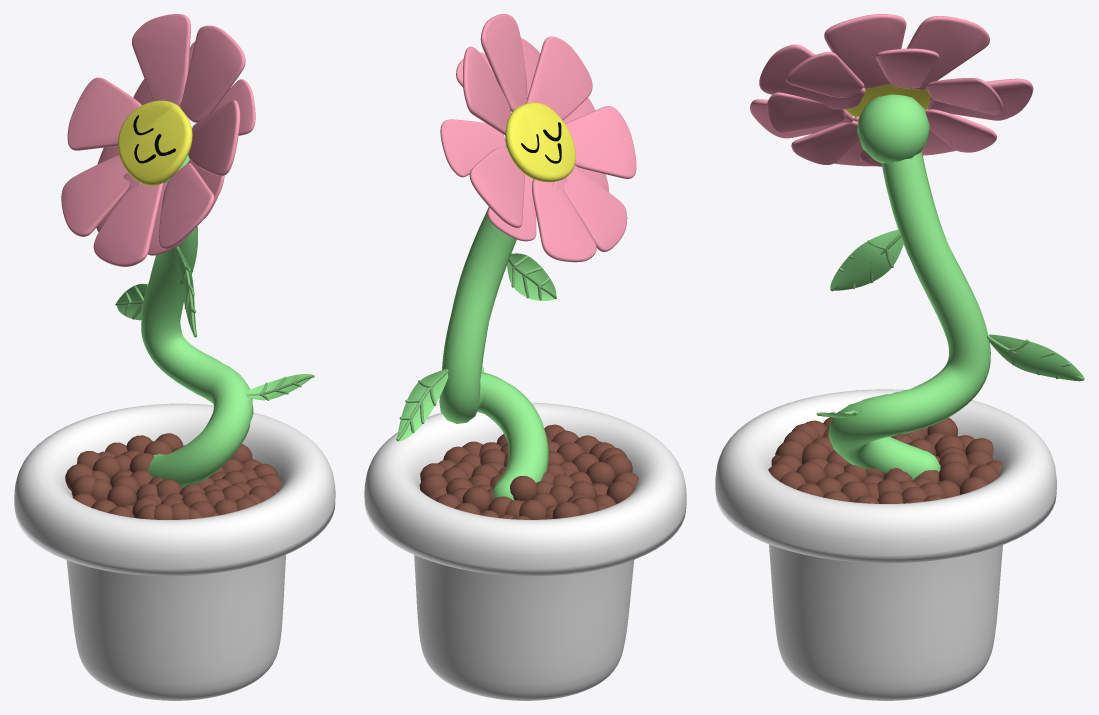
3 views of the same model, side by side, from view 1: azimuth 30°, elevation 25°; view 2: azimuth 150°, elevation 25°; view 3: azimuth 270°, elevation 25° (orthographic). The views are drawn at different scales.
Parts seen in each view (by area): view 1: r0032, s0037, s0069, s0072, s0070, s0087, s0076, s0075, s0073, s0071, s0091, n0215 (+4 smaller); view 2: r0032, s0037, s0069, s0073, s0071, s0075, s0087, s0070, s0076, s0072, s0089, n0207 (+6 smaller); view 3: r0032, s0037, s0233, s0070, s0072, s0071, s0091, n0199, s0092, n0207, s0089, s0093 (+5 smaller).
Boxes of the visible parts, x1,y1,x2,y2 form: r0032: (14,403,335,700); s0037: (141,226,253,488); s0069: (118,100,192,185); s0072: (132,14,190,106); s0070: (181,25,245,122); s0087: (93,183,163,266); s0076: (67,77,141,150); s0075: (61,155,129,236); s0073: (159,163,214,249); s0071: (188,100,240,176); s0091: (212,79,255,135); n0215: (246,374,312,400); r0032: (364,402,686,700); s0037: (439,207,548,500); s0069: (505,102,575,182); s0073: (565,106,636,178); s0071: (526,36,592,120); s0075: (532,179,596,262); s0087: (564,165,627,251); s0070: (480,14,527,111); s0076: (469,147,525,227); s0072: (463,46,511,135); s0089: (440,119,506,177); n0207: (397,369,448,441); r0032: (715,389,1056,700); s0037: (828,151,990,480); s0233: (857,94,929,163); s0070: (824,14,906,88); s0072: (907,16,989,90); s0071: (759,44,865,109); s0091: (786,52,864,97); n0199: (830,229,903,290); s0092: (766,92,845,132); n0207: (988,334,1083,381); s0089: (926,77,1002,114); s0093: (791,120,859,164).
Size of the model in its own units: 0.2335 by 0.5072 by 0.2525.
